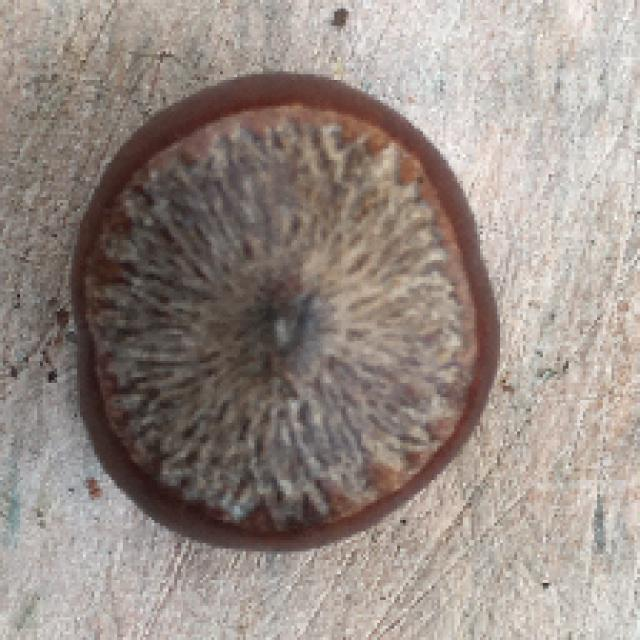qualityHazelnut: (70, 64, 507, 556)
